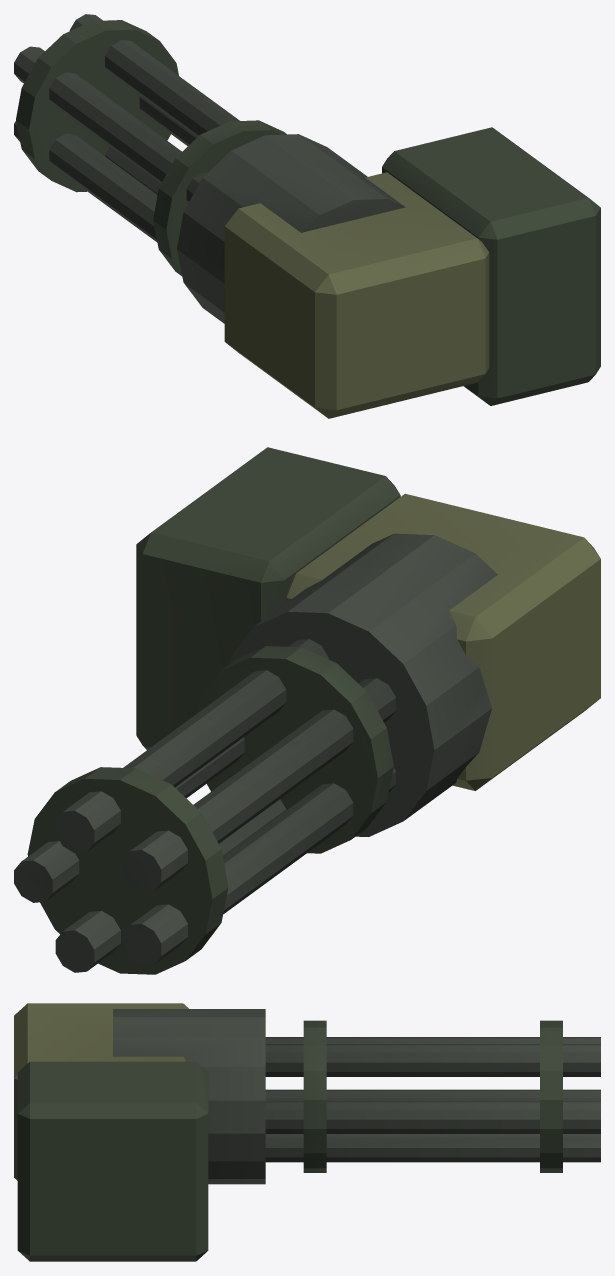
File: arm_cannon_right.glb
3 renders of one model, top to bottom at view 1: azimuth 30°, elevation 25°; view 2: azimuth 150°, elevation 25°; view 3: azimuth 270°, elevation 25°, orthographic. The views are drawn at different scales.
Visible parts, largest first — view 1: AC30_arm_cradle, Cannon_ammo_box, AC30_receiver, AC30_barrel_clamp, AC30_barrel.003, AC30_barrel.002, AC30_barrel_clamp.001, AC30_barrel.004, AC30_barrel.001, AC30_barrel; view 2: Cannon_ammo_box, AC30_receiver, AC30_arm_cradle, AC30_barrel_clamp, AC30_barrel_clamp.001, AC30_barrel.003, AC30_barrel.002, AC30_barrel.004, AC30_barrel.001, AC30_barrel; view 3: Cannon_ammo_box, AC30_receiver, AC30_barrel.002, AC30_barrel.001, AC30_barrel, AC30_arm_cradle, AC30_barrel.004, AC30_barrel_clamp.001, AC30_barrel_clamp, AC30_barrel.003.
Boxes of the visible parts, <box> form: AC30_arm_cradle: <box>224,172,489,418</box>; Cannon_ammo_box: <box>382,127,600,405</box>; AC30_receiver: <box>177,134,405,323</box>; AC30_barrel_clamp: <box>16,20,178,192</box>; AC30_barrel.003: <box>14,46,206,202</box>; AC30_barrel.002: <box>69,14,239,137</box>; AC30_barrel_clamp.001: <box>153,120,287,276</box>; AC30_barrel.004: <box>14,121,157,242</box>; AC30_barrel.001: <box>139,96,196,145</box>; AC30_barrel: <box>105,147,160,194</box>; Cannon_ammo_box: <box>136,447,400,749</box>; AC30_receiver: <box>228,533,497,836</box>; AC30_arm_cradle: <box>285,493,600,790</box>; AC30_barrel_clamp: <box>27,767,228,974</box>; AC30_barrel_clamp.001: <box>197,646,393,853</box>; AC30_barrel.003: <box>122,678,395,892</box>; AC30_barrel.002: <box>55,639,328,853</box>; AC30_barrel.004: <box>122,768,395,966</box>; AC30_barrel.001: <box>14,737,244,902</box>; AC30_barrel: <box>55,799,286,972</box>; Cannon_ammo_box: <box>17,1061,208,1261</box>; AC30_receiver: <box>113,1009,265,1184</box>; AC30_barrel.002: <box>265,1044,600,1076</box>; AC30_barrel.001: <box>265,1101,600,1133</box>; AC30_barrel: <box>265,1134,600,1162</box>; AC30_arm_cradle: <box>14,1003,188,1180</box>; AC30_barrel.004: <box>265,1089,600,1101</box>; AC30_barrel_clamp.001: <box>303,1020,326,1172</box>; AC30_barrel_clamp: <box>540,1020,562,1172</box>; AC30_barrel.003: <box>265,1037,600,1043</box>.
Size of the model in its own units: 0.375 by 0.24 by 0.77.
